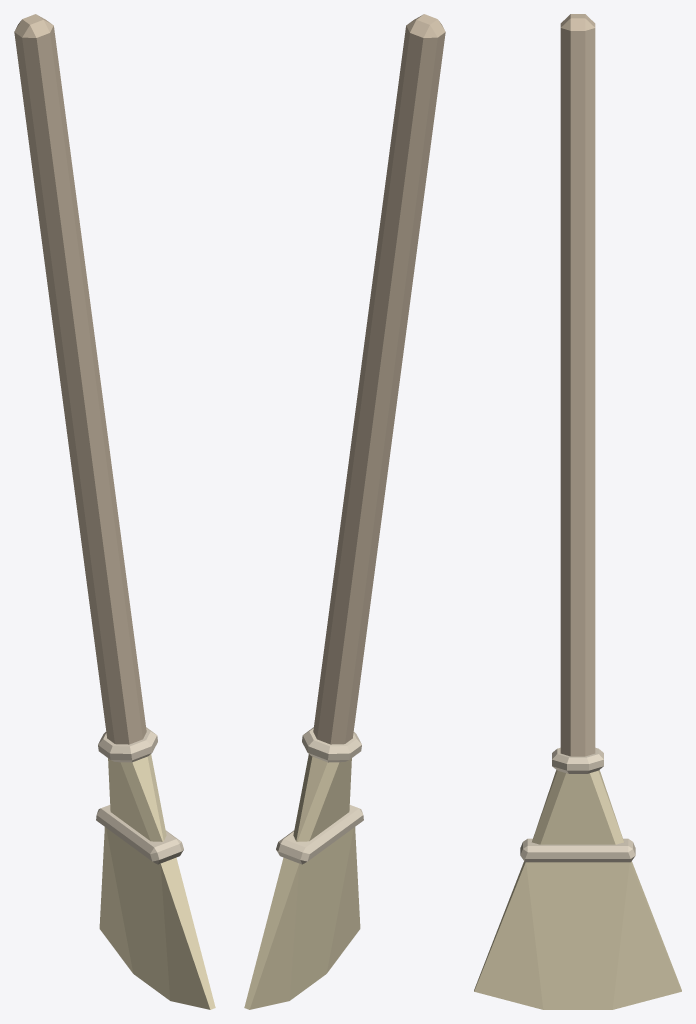
File: Prop_Broom.glb
3 renders of one model, left to right at view 1: azimuth 30°, elevation 25°; view 2: azimuth 150°, elevation 25°; view 3: azimuth 270°, elevation 25°, orthographic. The views are drawn at different scales.
Visible parts, largest first — view 1: Prop_Broom; view 2: Prop_Broom; view 3: Prop_Broom.
Boxes of the visible parts, bbox=[...] form: Prop_Broom: bbox=[14, 14, 215, 1009]; Prop_Broom: bbox=[244, 14, 445, 1009]; Prop_Broom: bbox=[474, 14, 681, 1009].
Size of the model in its own units: 0.0598 by 0.3814 by 0.0768.
